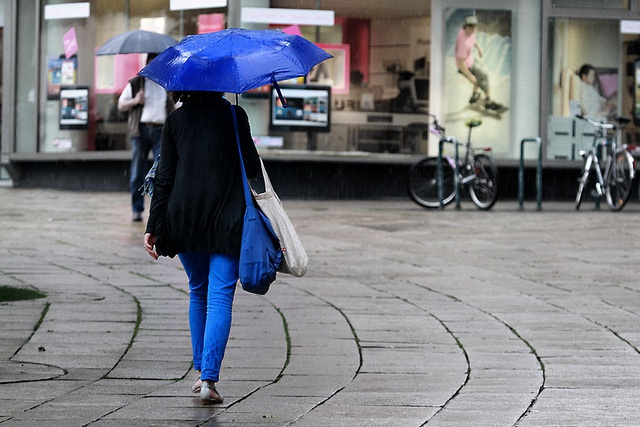non-vehicle: (407, 111, 499, 211), (573, 114, 636, 209)
